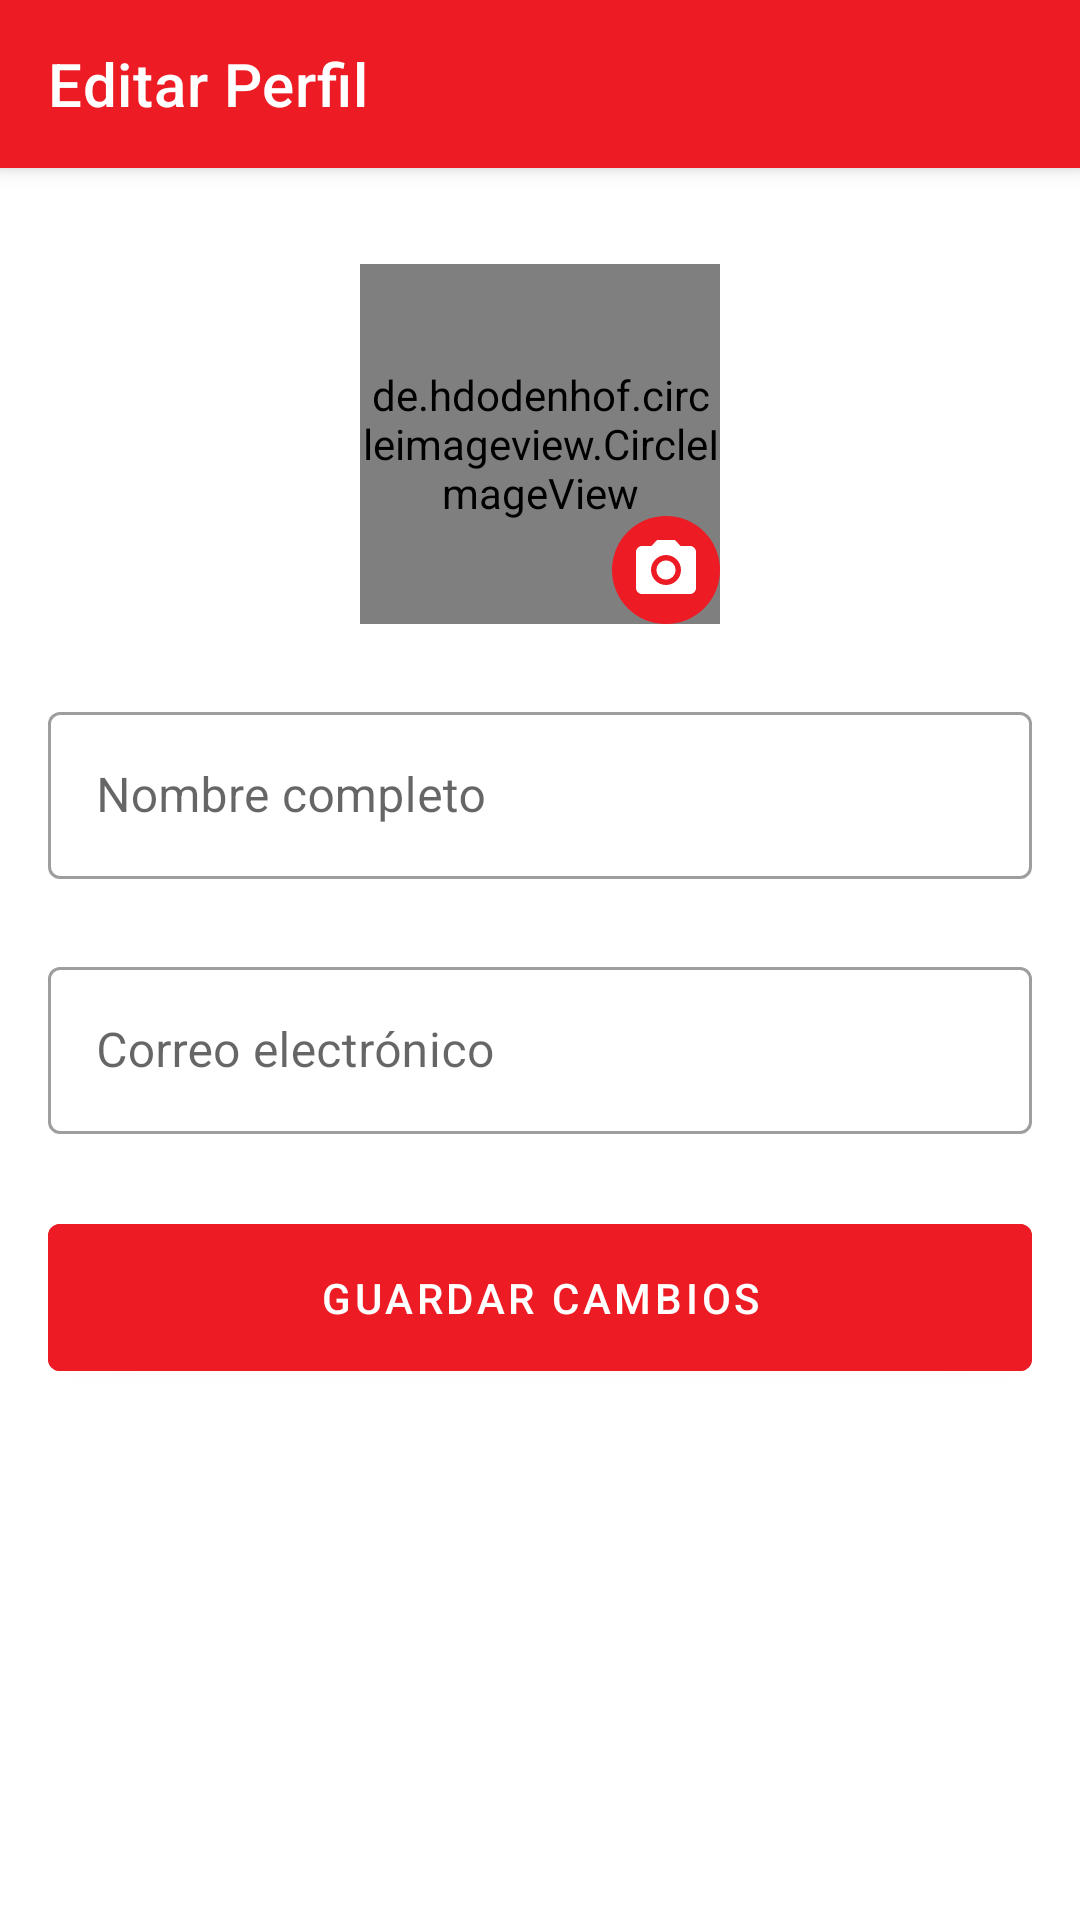

Point at icon controls on the screen. Image size 1080×1920, points as (x=x, y=y).
camera: (x=666, y=570)
